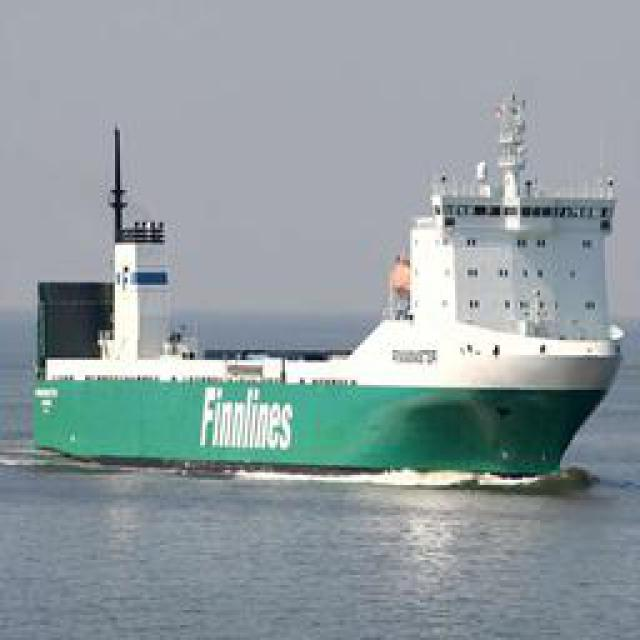Ship: (49, 75, 622, 478)
